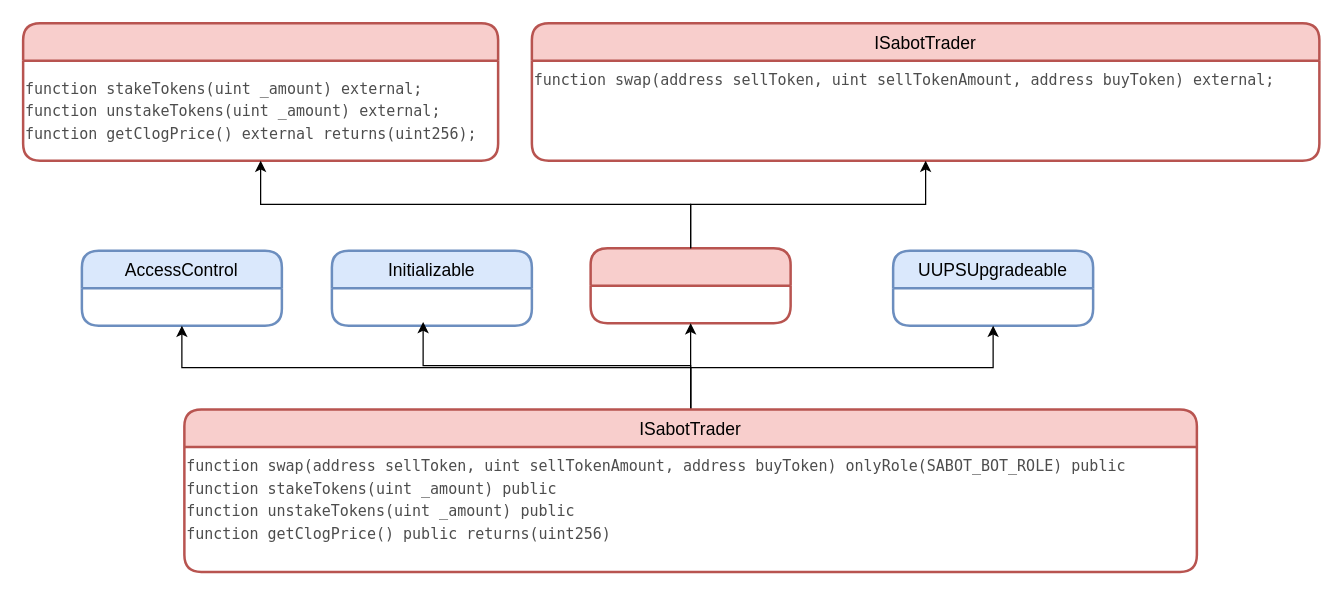
The diagram is 1341 pixels wide and 594 high, and some of its shapes have lost their labels. The shapes that lost their labels are listed below. From the top down, each one's box as (x1, y1, x2, y2) in pixels, then its label:
(21, 21, 499, 161): IClogStaking
(589, 246, 791, 324): SabotStakingBase
